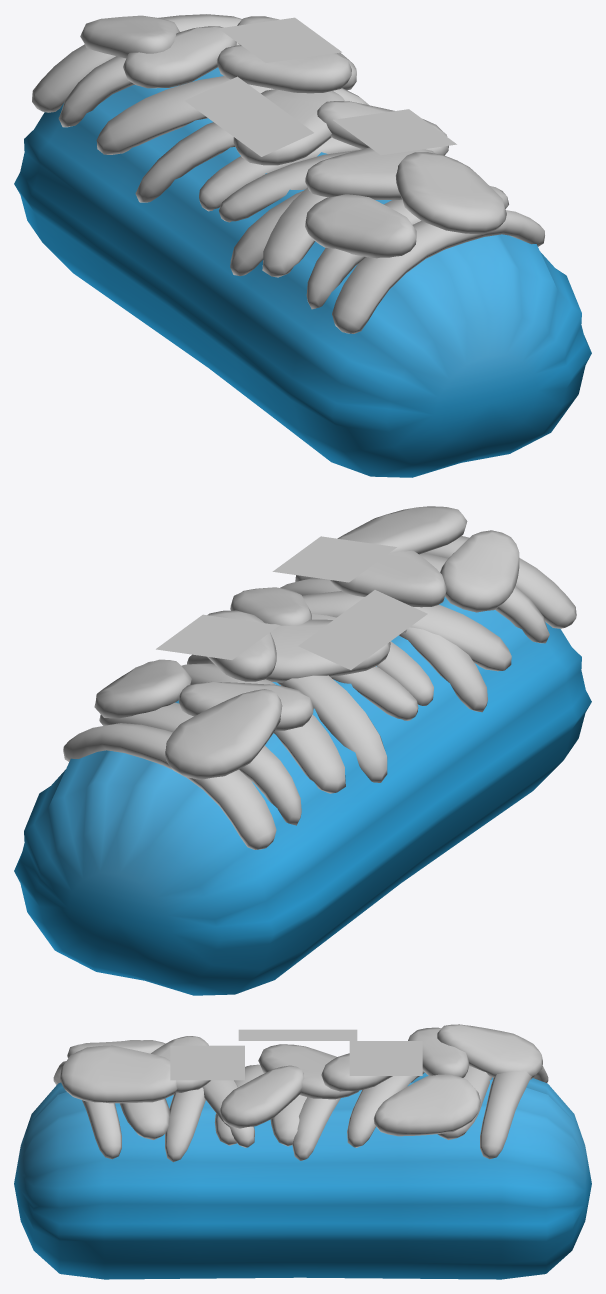
Rendered from eclair_blue.fbx.
3 views of the same model, one above another, from view 1: azimuth 30°, elevation 25°; view 2: azimuth 150°, elevation 25°; view 3: azimuth 270°, elevation 25° (orthographic). The views are drawn at different scales.
Visible parts, largest first — view 1: eclair_blue, almond, cream_blue, smile; view 2: eclair_blue, cream_blue, almond, smile; view 3: eclair_blue, almond, cream_blue, smile.
Part boxes in pixels (x1,y1,x2,y2): eclair_blue: (14,67,591,477); almond: (80,15,506,258); cream_blue: (32,14,544,333); smile: (185,17,456,156); eclair_blue: (14,597,591,995); cream_blue: (63,536,576,849); almond: (94,506,519,779); smile: (156,536,427,669); eclair_blue: (14,1072,591,1279); almond: (59,1024,542,1136); cream_blue: (53,1061,548,1162); smile: (170,1029,422,1080).
Size of the model in its own units: 23.17 by 20.71 by 51.77.
